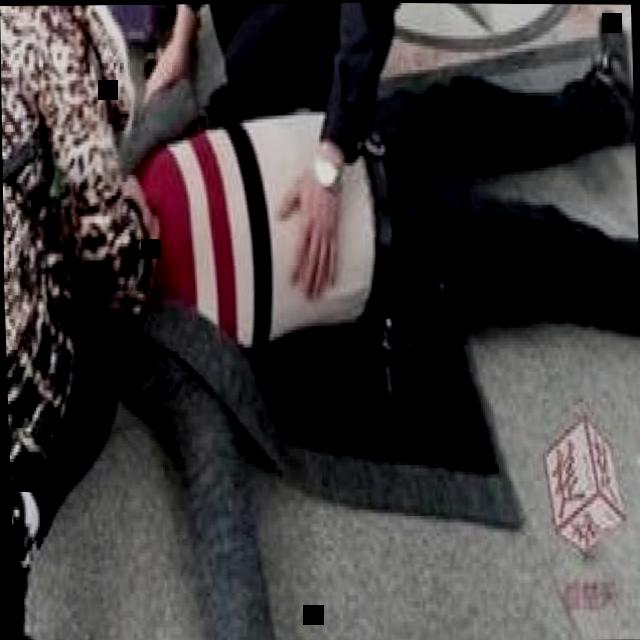Fall-Detected: (76, 0, 636, 640)
